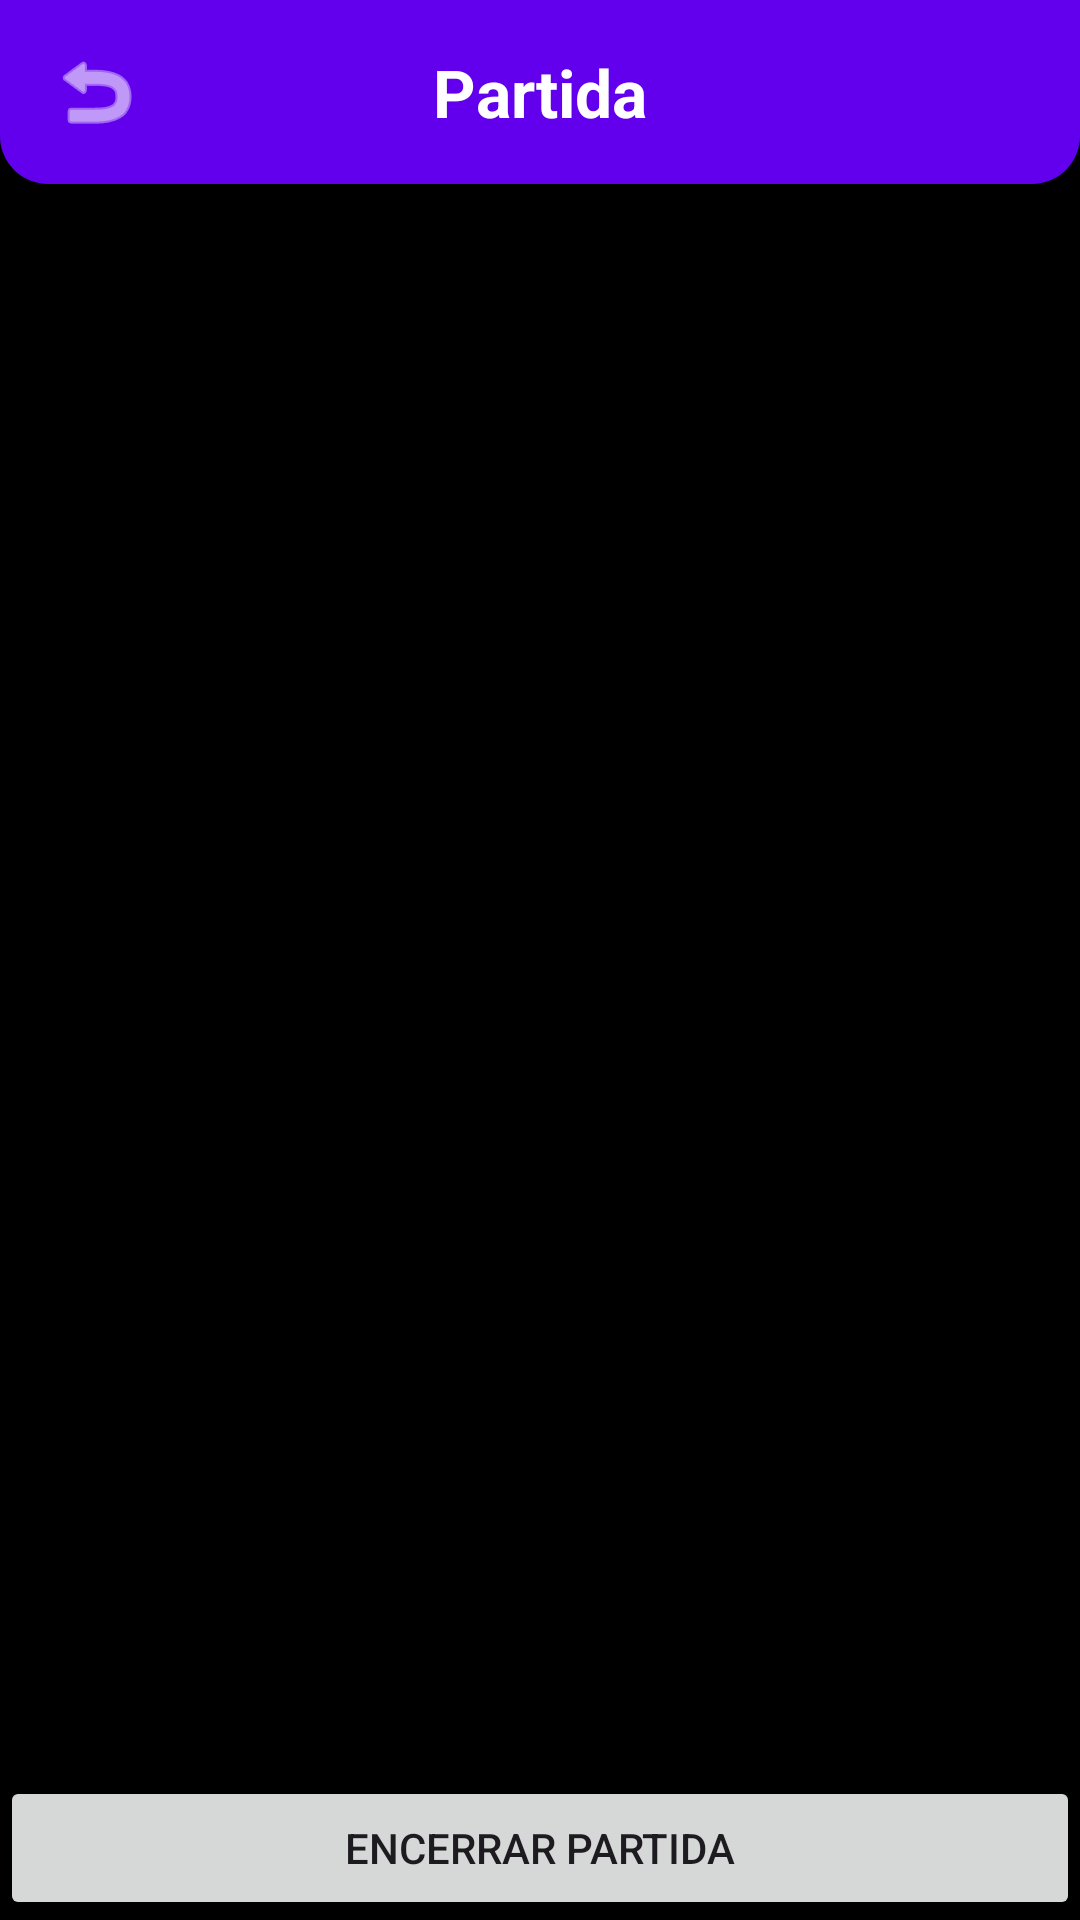

Named icons in this screenshot (1080px×1920px) and their bounding boxes, {"left": x1, "top": y1, "right": x2, "bottom": y2}:
Voltar: {"left": 63, "top": 61, "right": 132, "bottom": 124}
